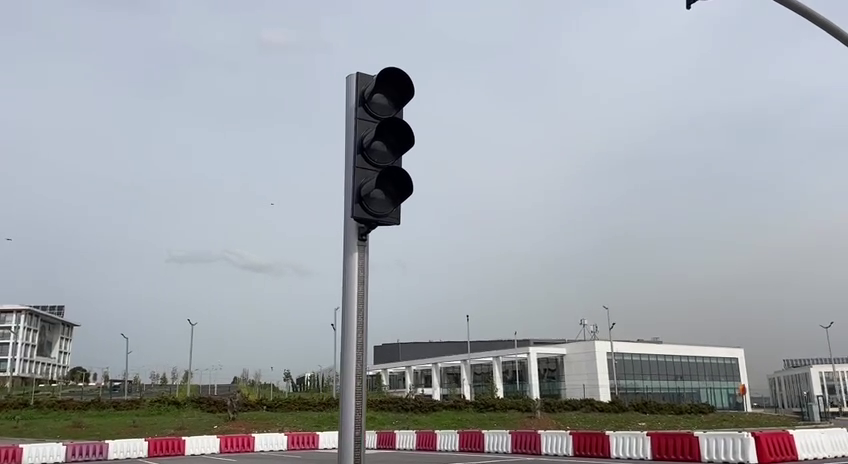trafficLight: (340, 60, 420, 234)
